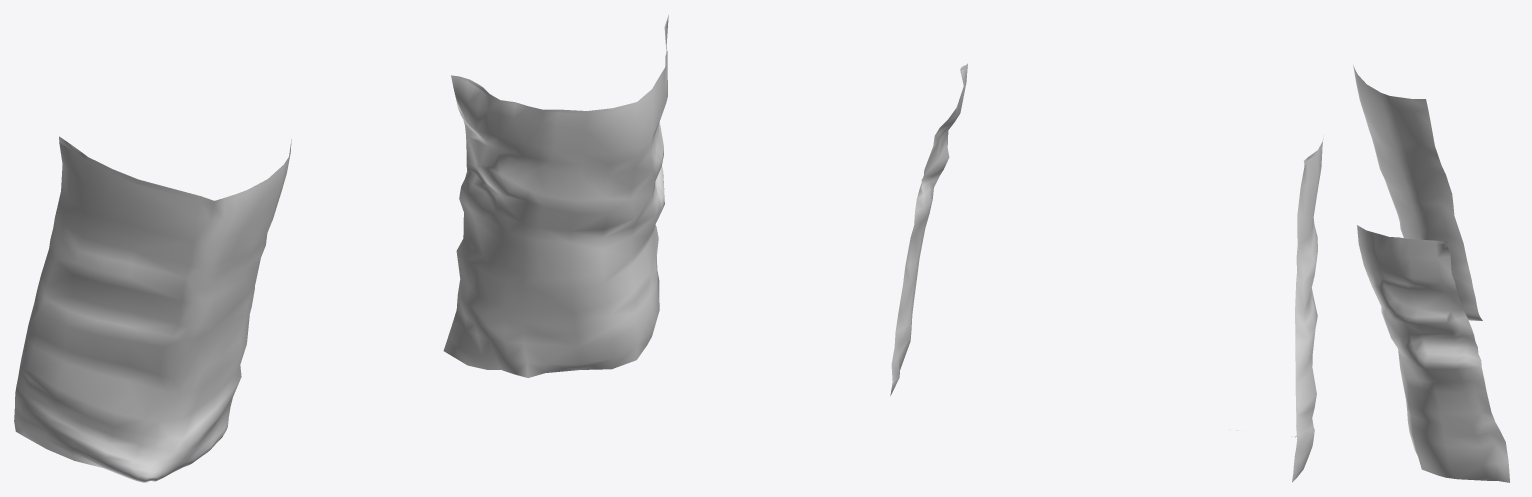
The model's file is Pants_Knee.glb.
The picture shows the model from 3 angles, left to right: view 1: azimuth 30°, elevation 25°; view 2: azimuth 150°, elevation 25°; view 3: azimuth 270°, elevation 25°; orthographic projection. The views are drawn at different scales.
Visible parts, largest first — view 1: Pants_Knee.001, Pants_Rope_Knee.001; view 2: Pants_Knee.001; view 3: Pants_Knee.001, Pants_Rope_Knee.001.
Boxes of the visible parts, <box> form: Pants_Knee.001: <box>14,15,668,482</box>; Pants_Rope_Knee.001: <box>59,15,668,204</box>; Pants_Knee.001: <box>890,63,1323,482</box>; Pants_Knee.001: <box>1353,65,1509,482</box>; Pants_Rope_Knee.001: <box>1353,66,1446,244</box>.
Size of the model in its own units: 0.8096 by 0.4189 by 0.2419.
2 materials, 2 textured.
